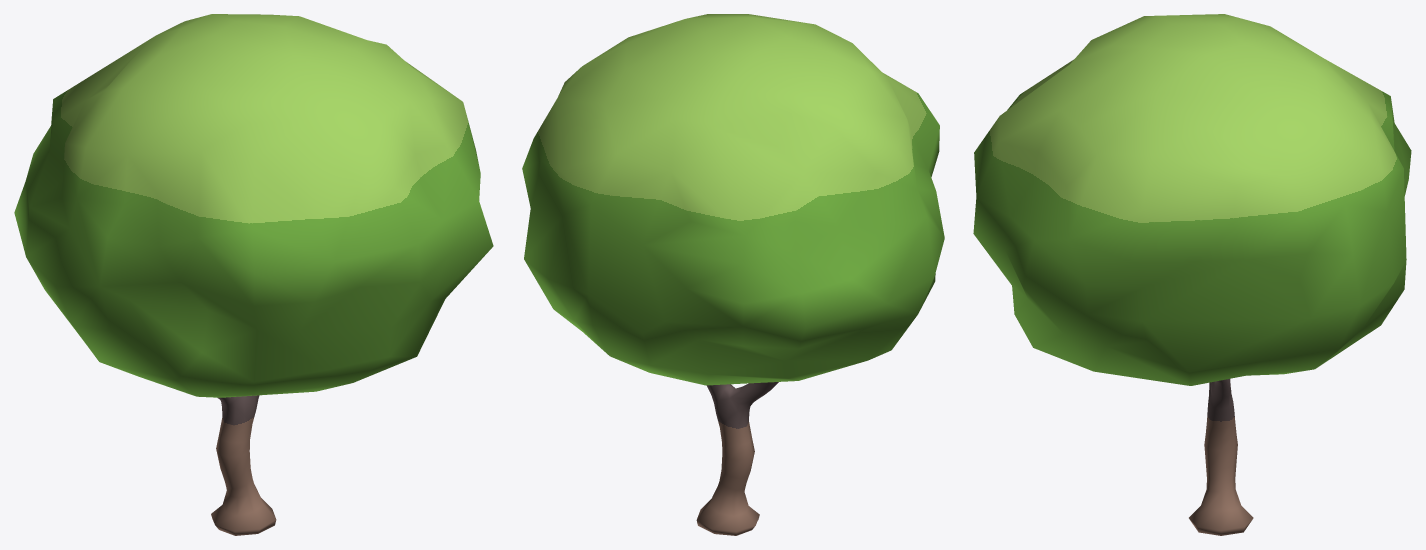
The model's file is arbol_04.fbx.
3 views of the same model, side by side, from view 1: azimuth 30°, elevation 25°; view 2: azimuth 150°, elevation 25°; view 3: azimuth 270°, elevation 25° (orthographic). The views are drawn at different scales.
Visible parts, largest first — view 1: arbol_04; view 2: arbol_04; view 3: arbol_04.
Part boxes in pixels (<box>): arbol_04: <box>14,14,493,535</box>; arbol_04: <box>522,14,944,535</box>; arbol_04: <box>973,14,1411,535</box>.
Bounding box in the file's own units: 2199 × 2676 × 2182.
